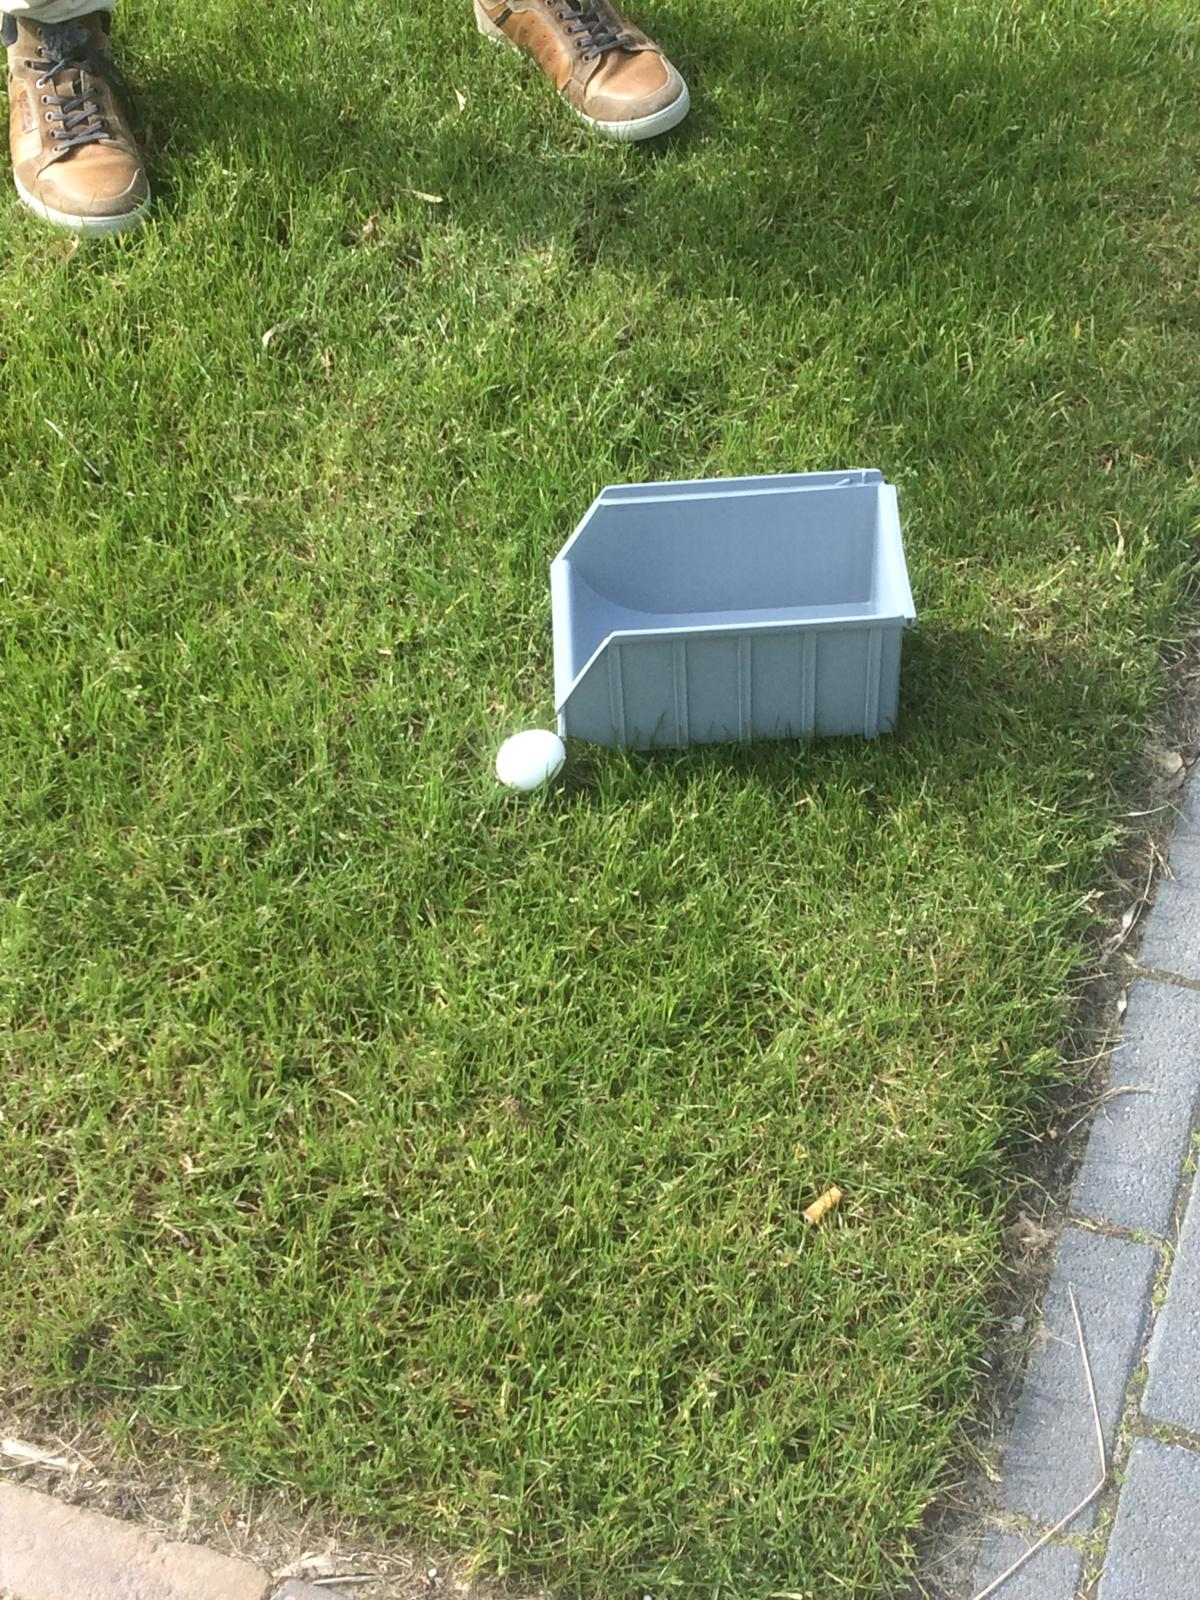egg: (487, 724, 570, 794)
tray_right: (558, 602, 932, 774)
